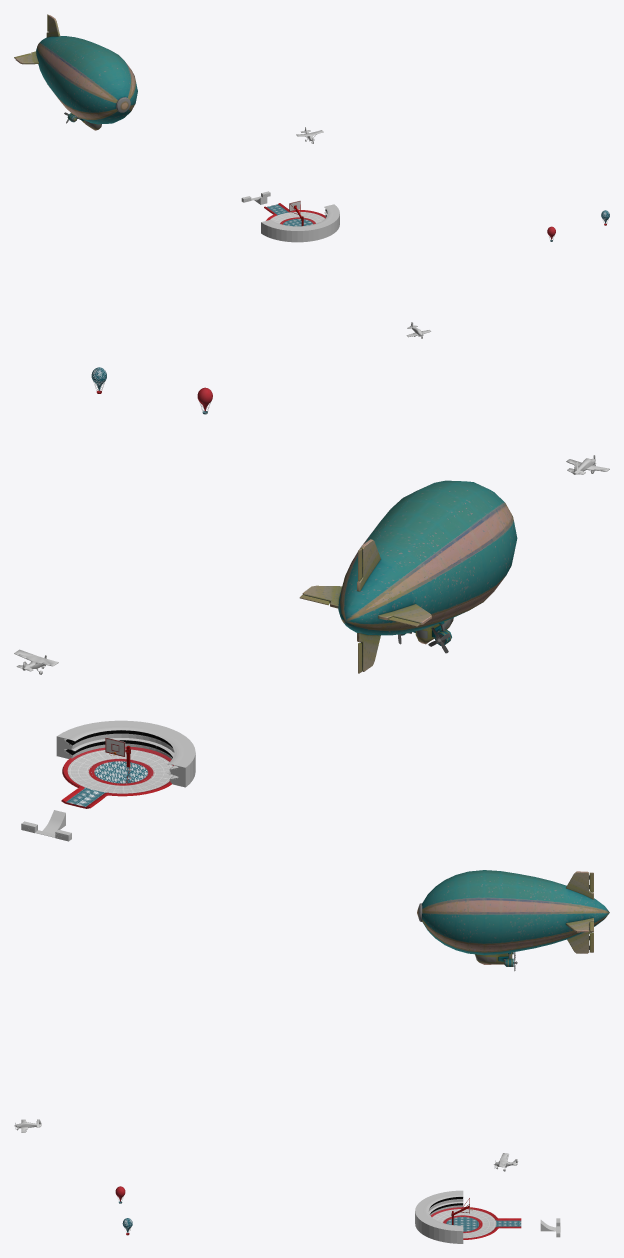
The model's file is level 1.fbx.
3 views of the same model, one above another, from view 1: azimuth 30°, elevation 25°; view 2: azimuth 150°, elevation 25°; view 3: azimuth 270°, elevation 25° (orthographic). The views are drawn at different scales.
Parts seen in each view (by area): view 1: air_ball, people, end_point; view 2: air_ball, end_point, people; view 3: air_ball, people, end_point.
Boxes of the visible parts, x1=… form: air_ball: x1=14, y1=14, x2=137, y2=130; people: x1=261, y1=204, x2=339, y2=242; end_point: x1=264, y1=203, x2=325, y2=226; air_ball: x1=299, y1=480, x2=517, y2=673; end_point: x1=61, y1=746, x2=173, y2=808; people: x1=56, y1=720, x2=195, y2=787; air_ball: x1=417, y1=870, x2=609, y2=966; people: x1=415, y1=1190, x2=463, y2=1243; end_point: x1=430, y1=1207, x2=521, y2=1239.
Size of the model in its own units: 57257 by 31512 by 66580.
